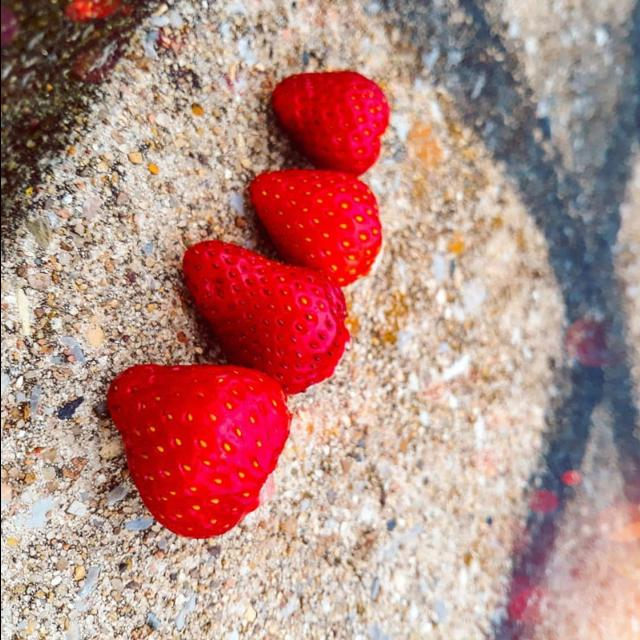Strawberries: (110, 368, 290, 538), (184, 241, 346, 377), (250, 172, 380, 282), (269, 69, 389, 175)
